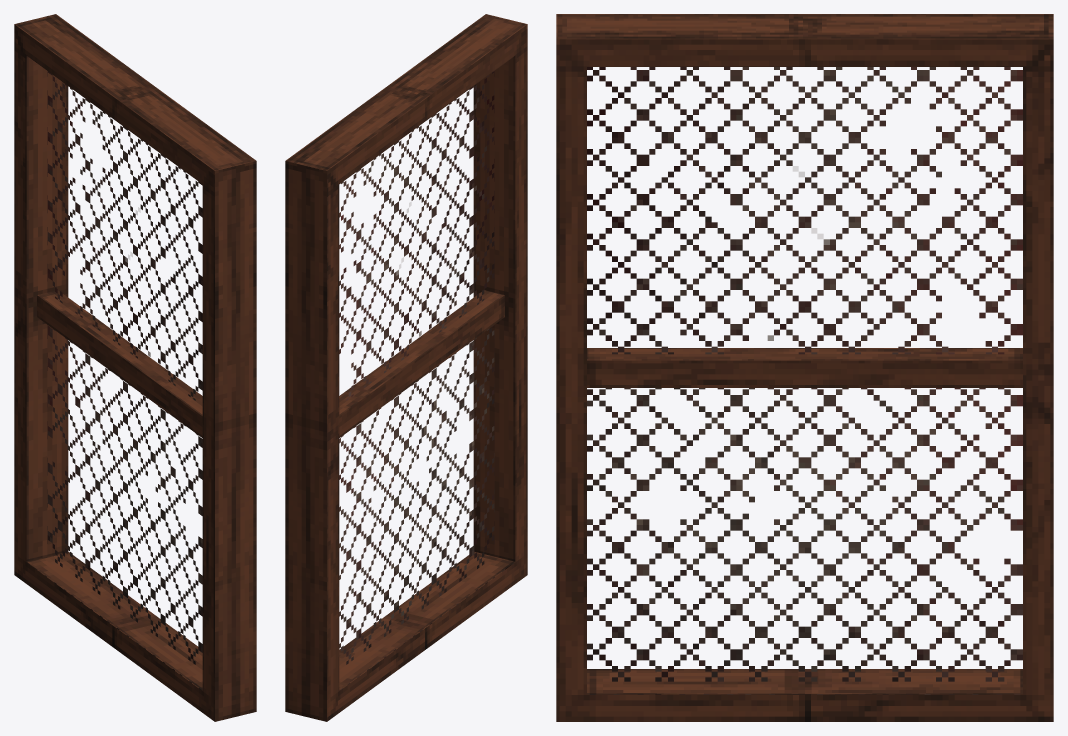
Rendered from Fence.glb.
3 views of the same model, side by side, from view 1: azimuth 30°, elevation 25°; view 2: azimuth 150°, elevation 25°; view 3: azimuth 270°, elevation 25° (orthographic). The views are drawn at different scales.
Visible parts, largest first — view 1: Cube.019; view 2: Cube.019; view 3: Cube.019.
Part boxes in pixels (<box>): Cube.019: <box>14,14,256,721</box>; Cube.019: <box>285,14,527,721</box>; Cube.019: <box>556,14,1053,721</box>.
Size of the model in its own units: 0.672 by 8.48 by 5.6.
Materials: 1 (1 with a texture image).
